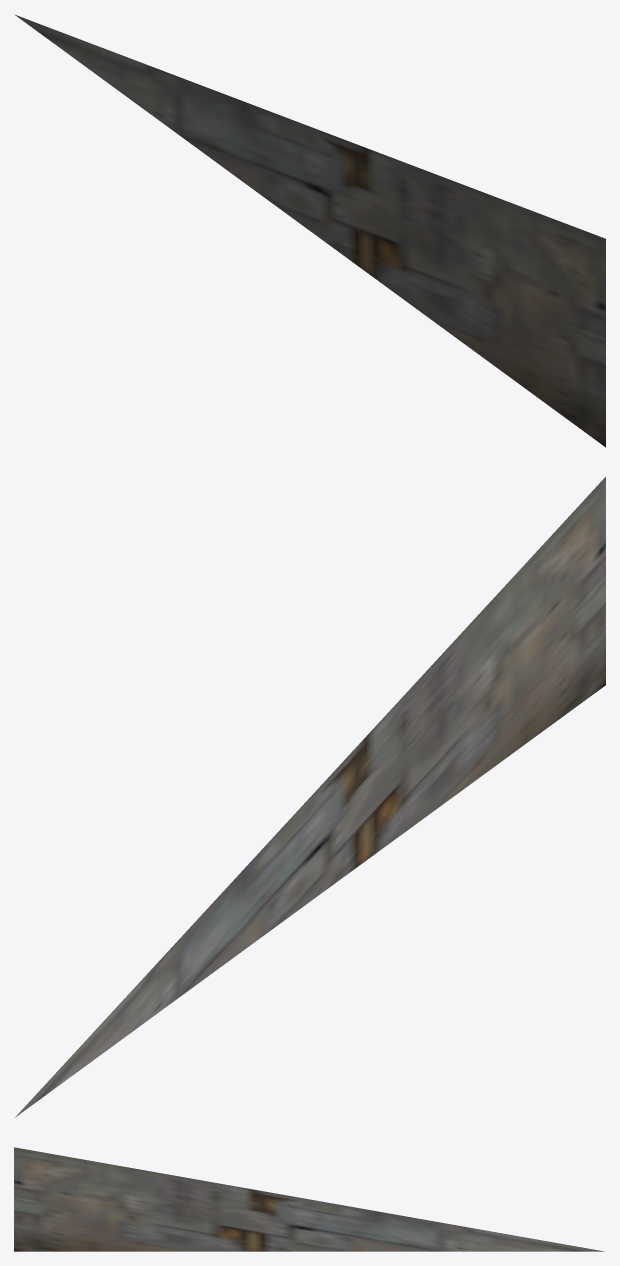
File: Straße_SeitenteilFlach [Favellas]_857.glb
3 views of the same model, one above another, from view 1: azimuth 30°, elevation 25°; view 2: azimuth 150°, elevation 25°; view 3: azimuth 270°, elevation 25° (orthographic). The views are drawn at different scales.
Visible parts, largest first — view 1: pPlaneShape173; view 2: pPlaneShape173; view 3: pPlaneShape173.
Part boxes in pixels (<box>): pPlaneShape173: <box>15,15,605,447</box>; pPlaneShape173: <box>15,477,605,1117</box>; pPlaneShape173: <box>14,1147,604,1251</box>.
Size of the model in its own units: 1.19e-07 by 0.3891 by 2.
1 material, 1 textured.
